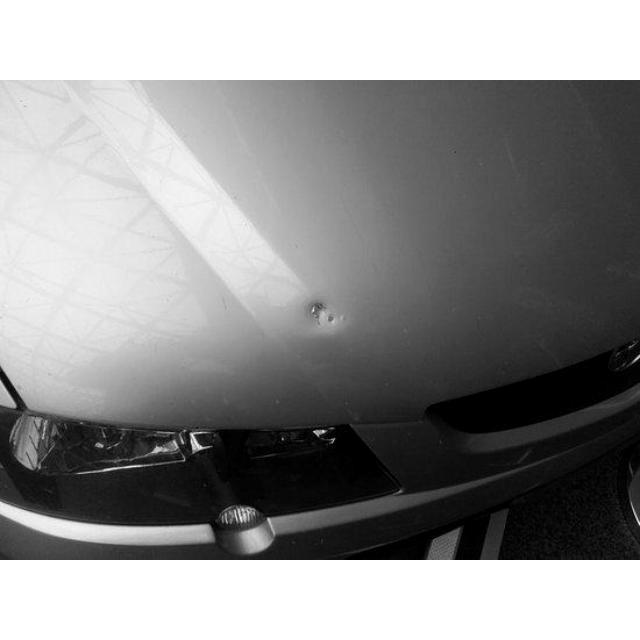bonnet-dent: (113, 83, 585, 499)
